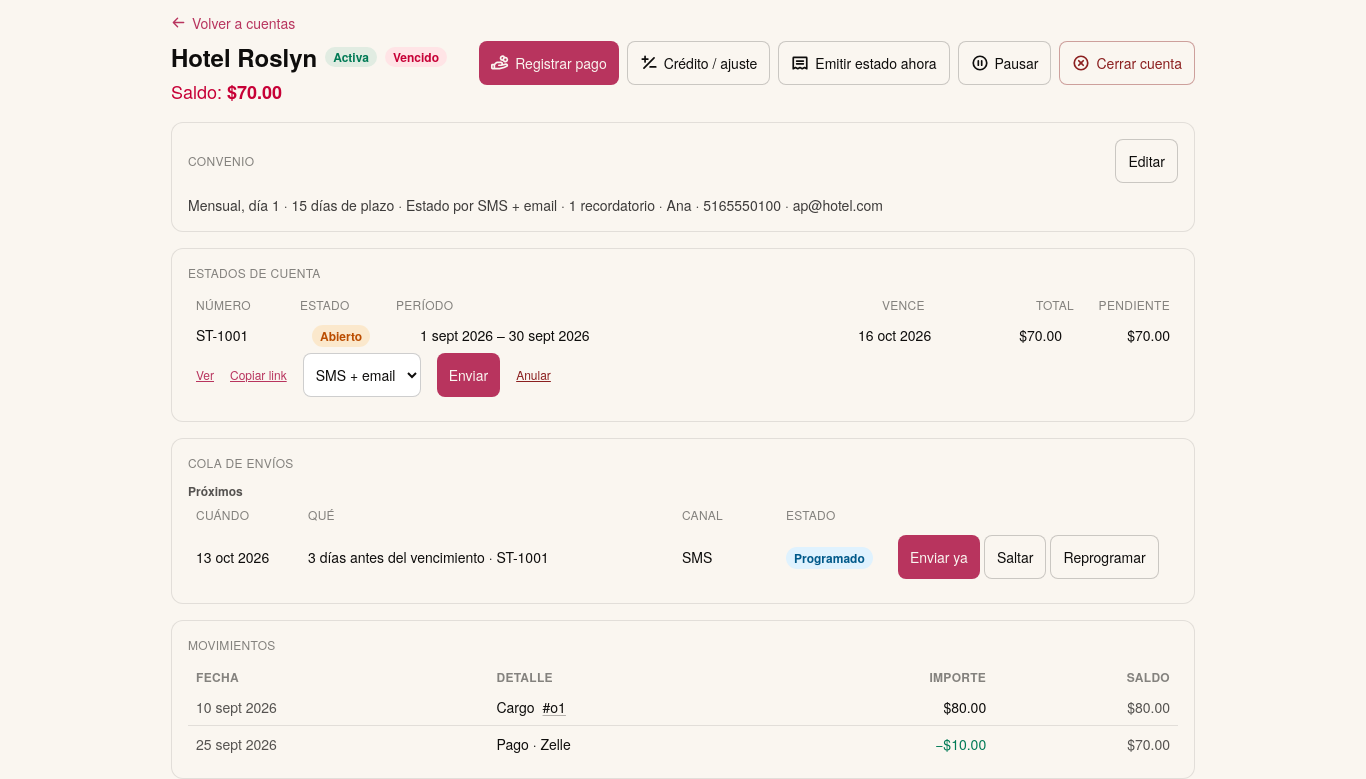
Test: AccountDetail › issuing a statement › sends manually on a different channel, then skips the queued row
The width and height of the screenshot is (1366, 779).
Click the button "Emitir estado ahora".
click(864, 62)  # box [778,40,950,84]
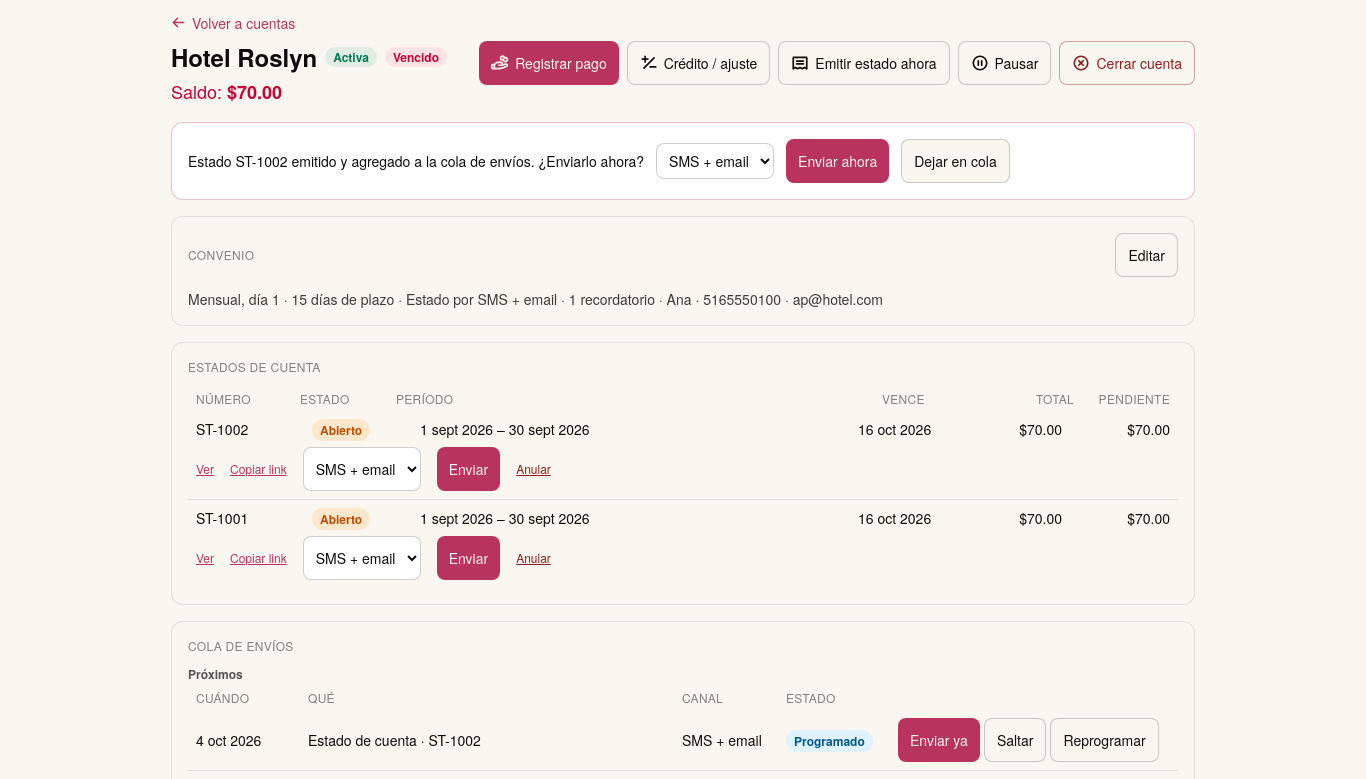
Check: the text "emitido y agregado a la cola de envíos" is shown, box [188,150,644,170]
Select "SMS" in the 1st dropdown named "Enviar por" at (715, 160), box [656,142,774,178]
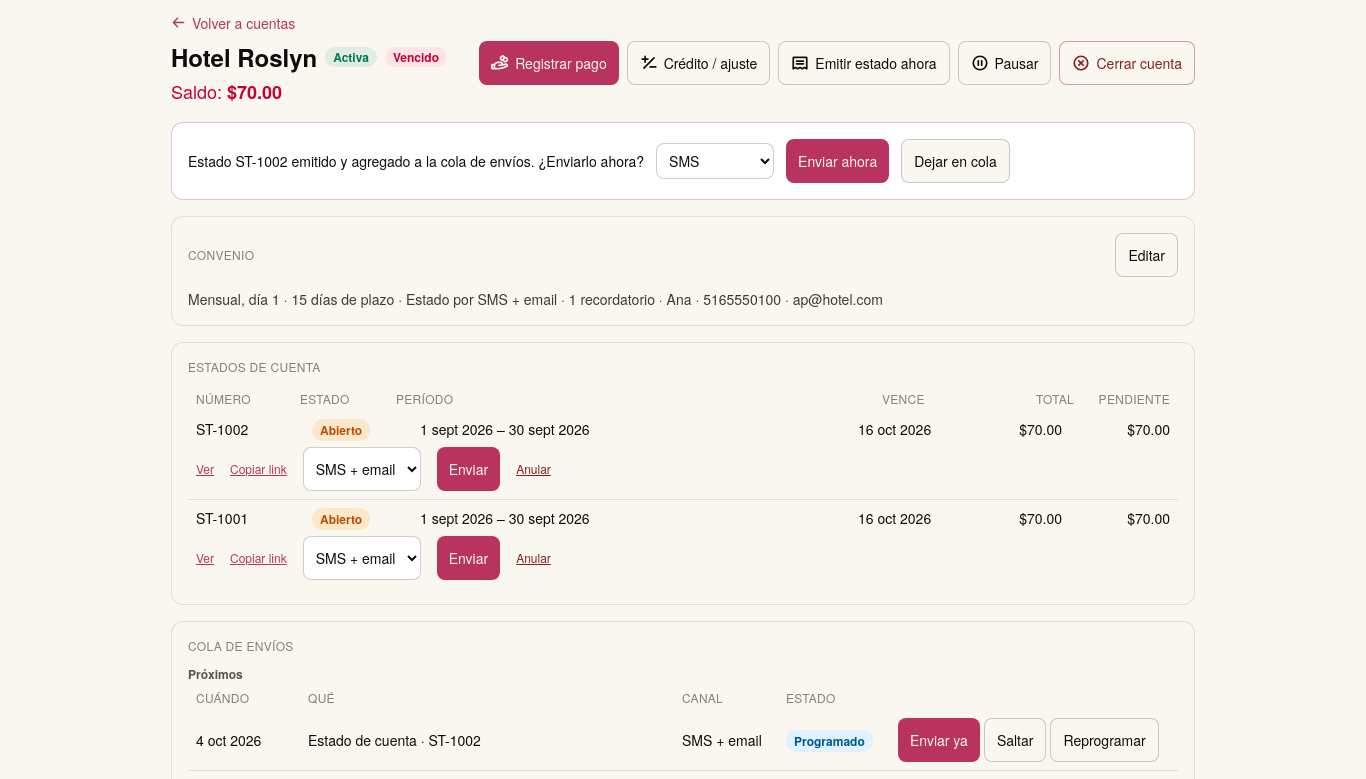
Click the button "Enviar ahora".
click(838, 160)  # box [786,138,889,182]
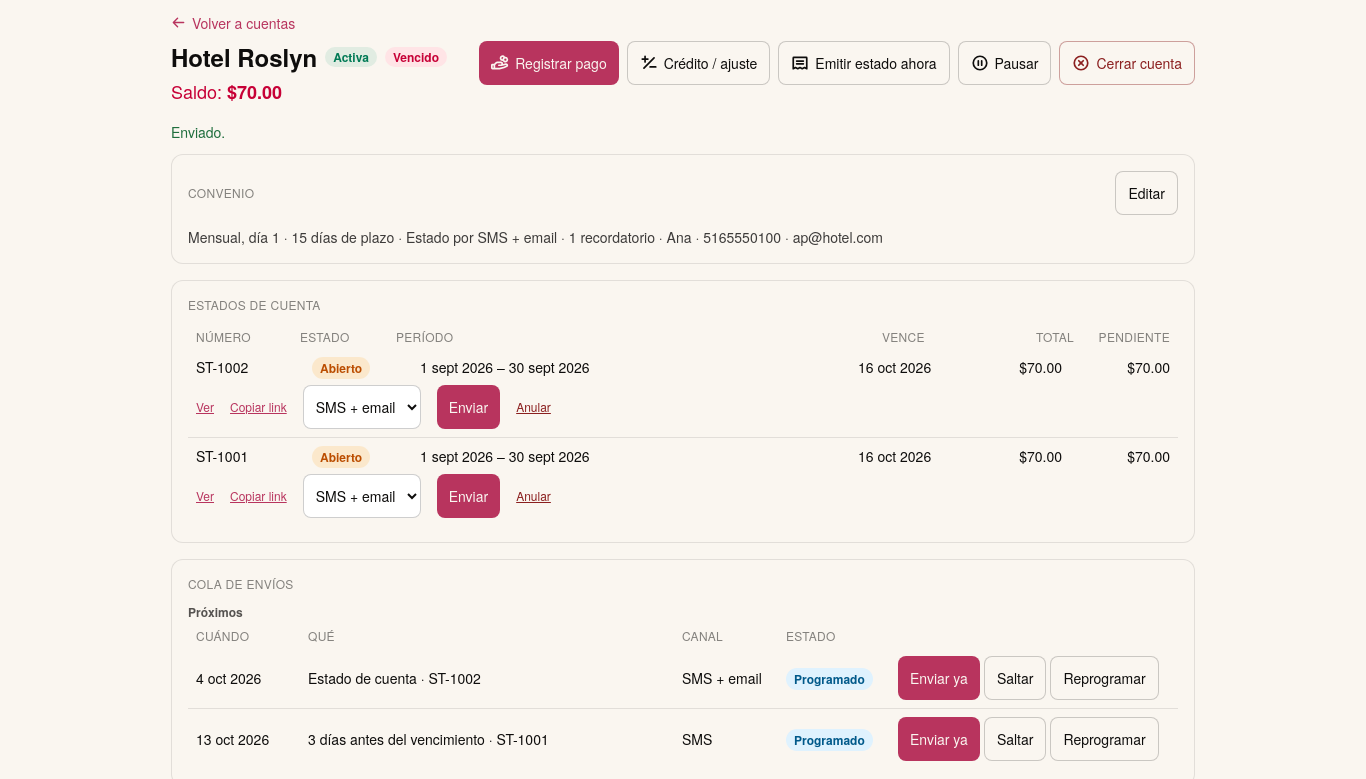
Check: the text "Enviado." is shown, box [171,122,225,142]
